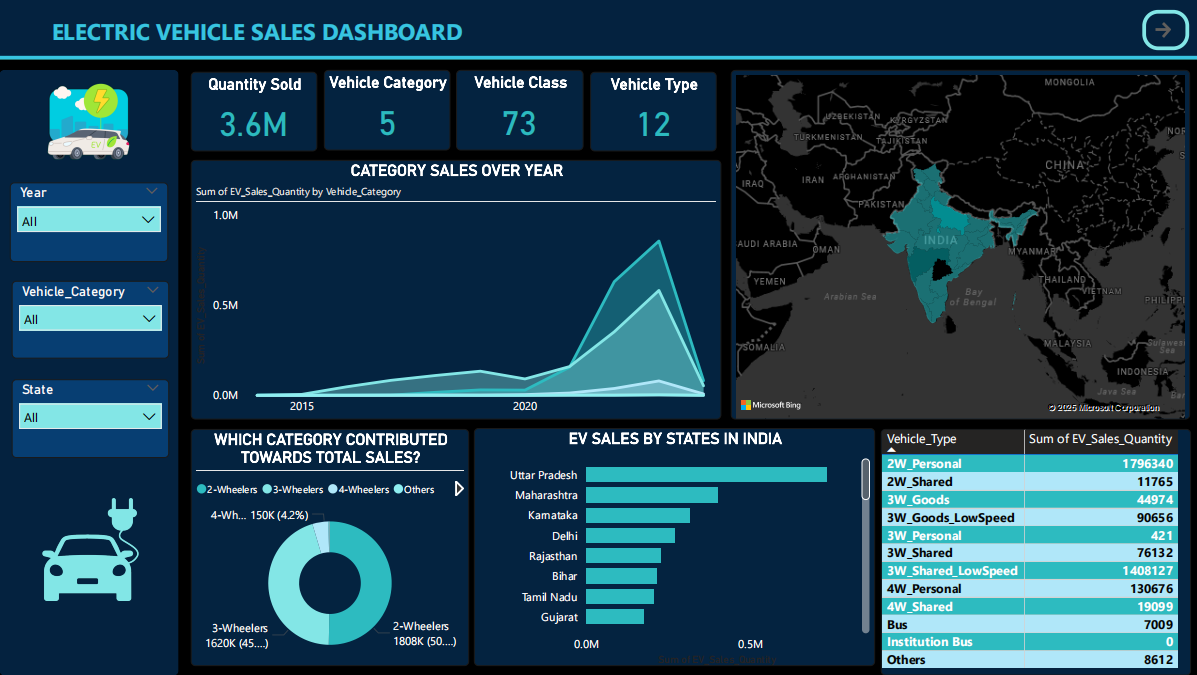

This screenshot's page, from the dashboard's own definition file:
{"tool":"powerbi","page":{"name":"DB1","canvas":[1280,720],"ordinal":0},"visuals":[{"type":"shape","box":[0,48,1919.7,26.1],"z":0},{"type":"textbox","box":[50.8,11,728.6,50.8],"z":1000},{"type":"donutChart","title":"WHICH CATEGORY CONTRIBUTED TOWARDS TOTAL SALES?","fields":{"Y":["Sum(electric_cleaned.EV_Sales_Quantity)"],"Category":["electric_cleaned.Vehicle_Category"]},"box":[204.4,457.4,297.1,252.9],"z":2000},{"type":"shape","box":[0,0,1280.9,61.8],"z":3000},{"type":"shape","box":[0,74.3,191.4,645.7],"z":4000},{"type":"card","title":"Quantity Sold","fields":{"Values":["Sum(electric_cleaned.EV_Sales_Quantity)"]},"box":[204.3,75.7,135,85],"z":5000},{"type":"card","title":"Vehicle Category","fields":{"Values":["Count(electric_cleaned.Vehicle_Category)"]},"box":[345.7,74.3,135.7,85.7],"z":6000},{"type":"card","title":"Vehicle Class","fields":{"Values":["Count(electric_cleaned.Vehicle_Class)"]},"box":[487.1,74.3,135.7,85.7],"z":7000},{"type":"card","title":"Vehicle Type","fields":{"Values":["Count(electric_cleaned.Vehicle_Type)"]},"box":[630,75.7,135,85],"z":8000},{"type":"areaChart","title":"CATEGORY SALES OVER YEAR","fields":{"Category":["electric_cleaned.Year"],"Y":["Sum(electric_cleaned.EV_Sales_Quantity)"],"Series":["electric_cleaned.Vehicle_Category"]},"box":[204.3,170,565.7,277.1],"z":9000},{"type":"clusteredBarChart","title":"EV SALES BY STATES IN INDIA","fields":{"Y":["Sum(electric_cleaned.EV_Sales_Quantity)"],"Category":["electric_cleaned.State"]},"box":[505.9,455.9,427.9,254.4],"z":10000},{"type":"filledMap","title":"EV SALES BY STATES IN INDIA","fields":{"Category":["electric_cleaned.State"]},"box":[780,74.3,490,372.9],"z":11000},{"type":"tableEx","title":"EV SALES BY STATES IN INDIA","fields":{"Values":["electric_cleaned.Vehicle_Type","Sum(electric_cleaned.EV_Sales_Quantity)"]},"box":[940,456.9,330.7,263.5],"z":12000},{"type":"slicer","title":"Quantity Sold","fields":{"Values":["electric_cleaned.Year"]},"box":[11.4,194.3,168.6,84.3],"z":13000},{"type":"slicer","title":"Quantity Sold","fields":{"Values":["electric_cleaned.Vehicle_Category"]},"box":[13.2,298.5,167.6,83.8],"z":13001},{"type":"slicer","title":"Quantity Sold","fields":{"Values":["electric_cleaned.State"]},"box":[13.2,404.4,167.6,83.8],"z":13002},{"type":"actionButton","box":[1219.1,10.3,50,42.6],"z":13003},{"type":"image","box":[23.5,83.8,142.6,91.2],"z":13004},{"type":"image","box":[38.2,523.5,119.1,122.1],"z":13005}]}

Visuals, with their boxes in screenshot pixels (x1, y1, x2, y2), scaled from the page's 1280x720 canvas onto the 1197x675 screenshot:
shape: BBox(0, 45, 1196, 69)
textbox: BBox(48, 10, 729, 58)
"WHICH CATEGORY CONTRIBUTED TOWARDS TOTAL SALES?" donutChart: BBox(191, 429, 469, 666)
shape: BBox(0, 0, 1196, 58)
shape: BBox(0, 70, 179, 674)
"Quantity Sold" card: BBox(191, 71, 317, 151)
"Vehicle Category" card: BBox(323, 70, 450, 150)
"Vehicle Class" card: BBox(456, 70, 582, 150)
"Vehicle Type" card: BBox(589, 71, 715, 151)
"CATEGORY SALES OVER YEAR" areaChart: BBox(191, 159, 720, 419)
"EV SALES BY STATES IN INDIA" clusteredBarChart: BBox(473, 427, 873, 666)
"EV SALES BY STATES IN INDIA" filledMap: BBox(729, 70, 1188, 419)
"EV SALES BY STATES IN INDIA" tableEx: BBox(879, 428, 1188, 674)
"Quantity Sold" slicer: BBox(11, 182, 168, 261)
"Quantity Sold" slicer: BBox(12, 280, 169, 358)
"Quantity Sold" slicer: BBox(12, 379, 169, 458)
actionButton: BBox(1140, 10, 1187, 50)
image: BBox(22, 79, 155, 164)
image: BBox(36, 491, 147, 605)
